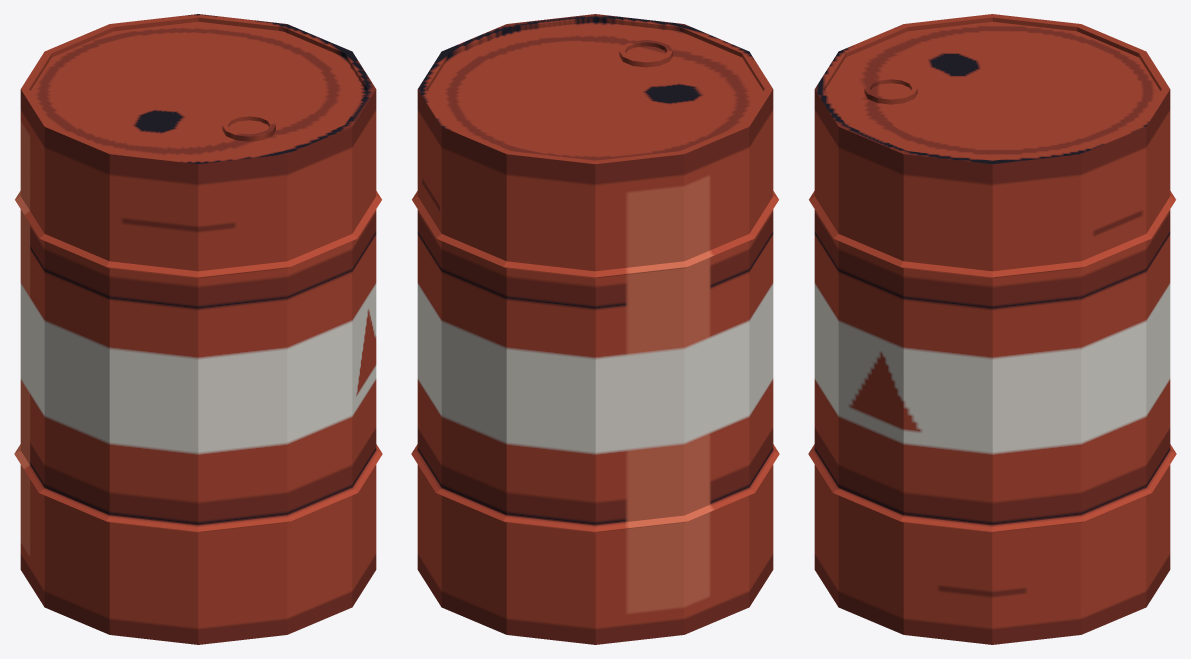
Rendered from prop_barrels_red.glb.
3 views of the same model, side by side, from view 1: azimuth 30°, elevation 25°; view 2: azimuth 150°, elevation 25°; view 3: azimuth 270°, elevation 25° (orthographic).
Visible parts, largest first — view 1: prop_barrels_red_mesh; view 2: prop_barrels_red_mesh; view 3: prop_barrels_red_mesh.
Boxes of the visible parts, x1,y1,x2,y2 form: prop_barrels_red_mesh: (14,14,382,644); prop_barrels_red_mesh: (411,14,779,644); prop_barrels_red_mesh: (808,14,1176,644).
Size of the model in its own units: 0.6243 by 0.9 by 0.6243.
1 material, 1 textured.
